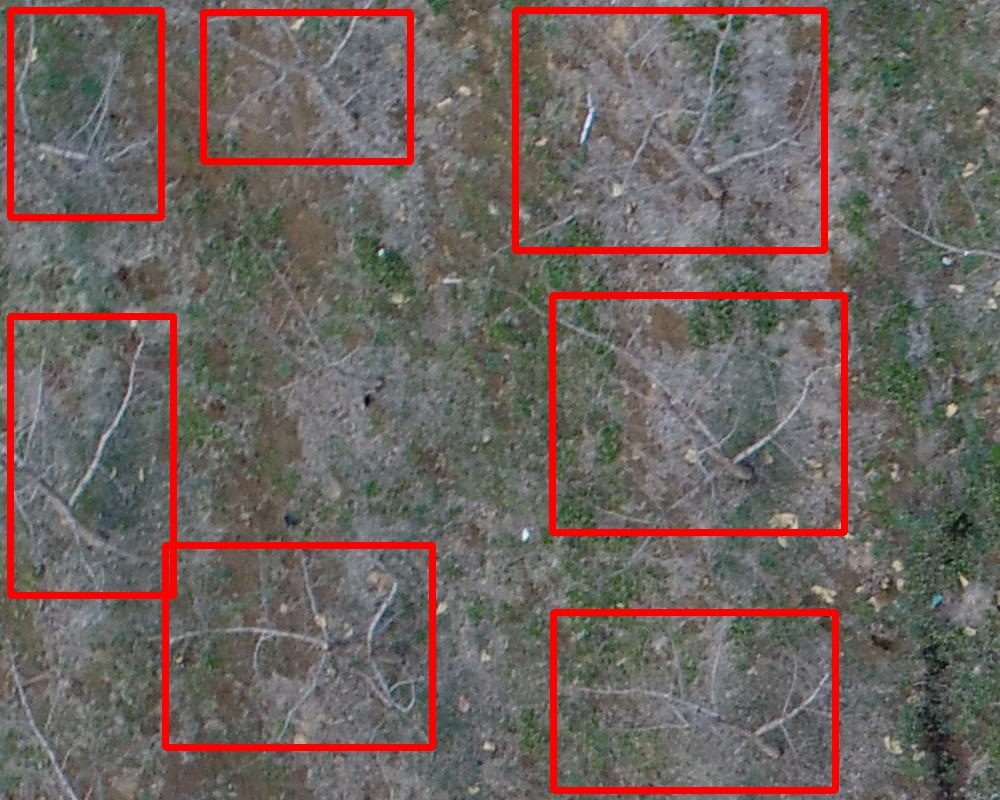apple: (515, 10, 824, 250), (552, 295, 844, 532), (165, 545, 432, 747), (553, 612, 835, 790), (10, 316, 173, 595), (10, 10, 161, 217), (203, 12, 410, 161)
